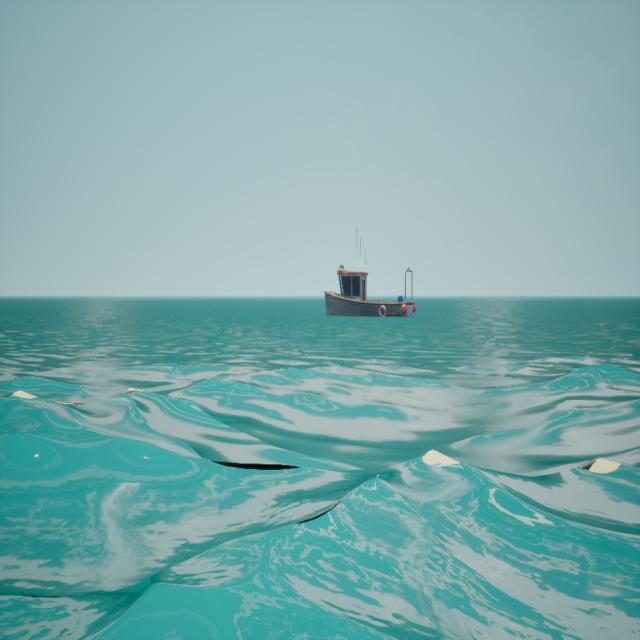ship: (320, 215, 426, 333)
